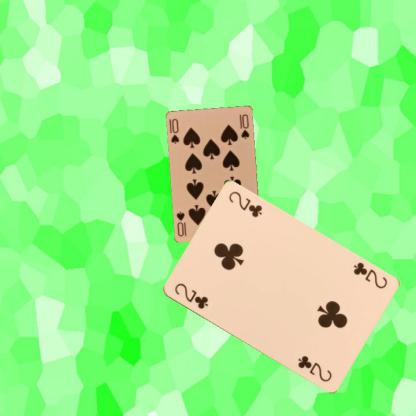10s: (169, 116, 180, 145)
2c: (350, 259, 388, 290), (172, 280, 209, 310)
